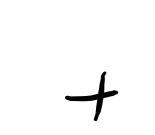plus: (66, 71, 119, 122)
